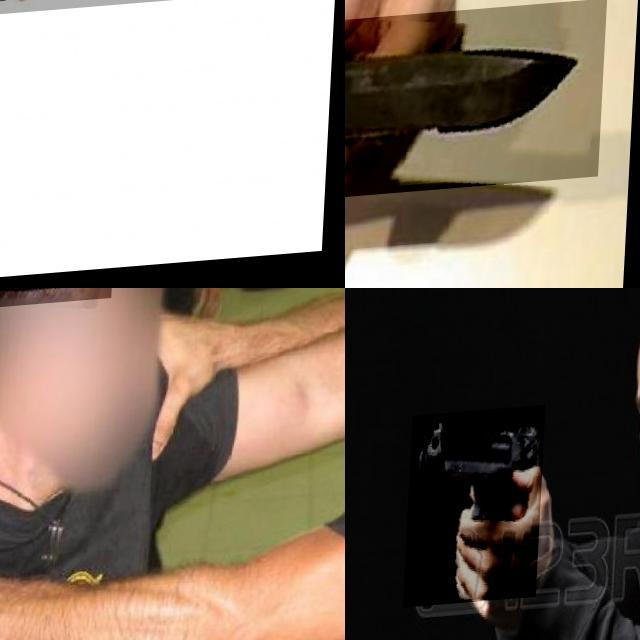-: (345, 8, 609, 209), (0, 288, 162, 379)
gun-knife-thesis - v11 Yolov5 augmented: (0, 0, 277, 181), (407, 410, 548, 610)
